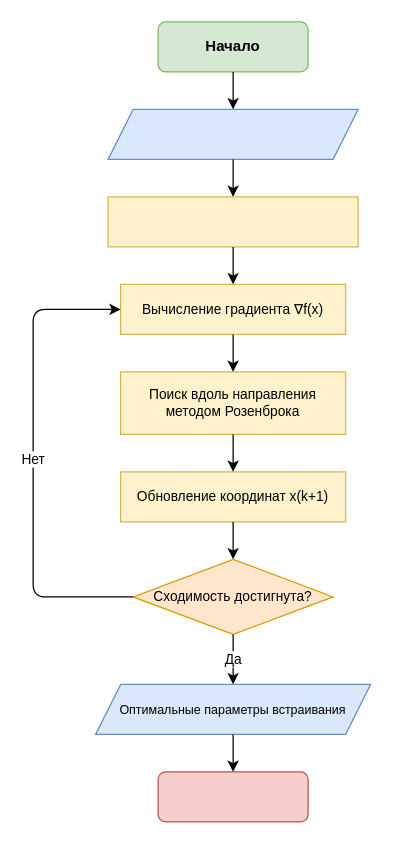
Image size: 393x844. Some labels were removed from this diagram. The box of each missing label's shape, as (x1, y1, x2, y2) in pixels:
Ввод параметров оптимизации: (107, 108, 358, 159)
Инициализация начальной точки x₀: (107, 196, 358, 247)
Конец: (157, 771, 308, 822)
